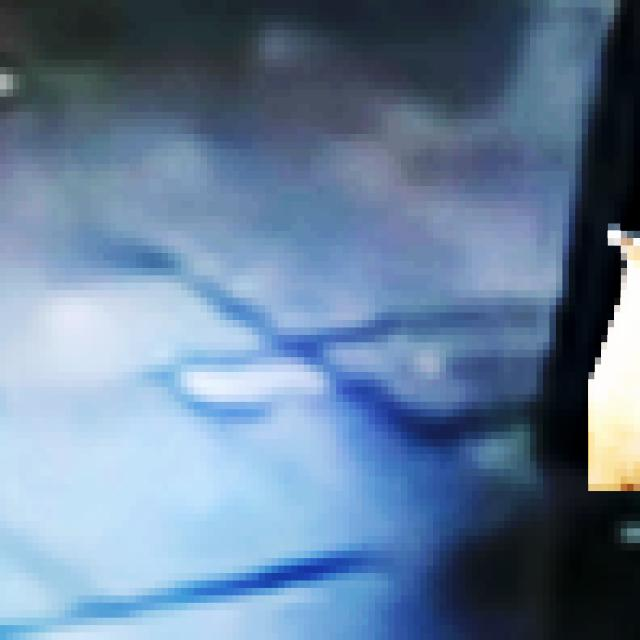arms: (517, 30, 640, 409)
